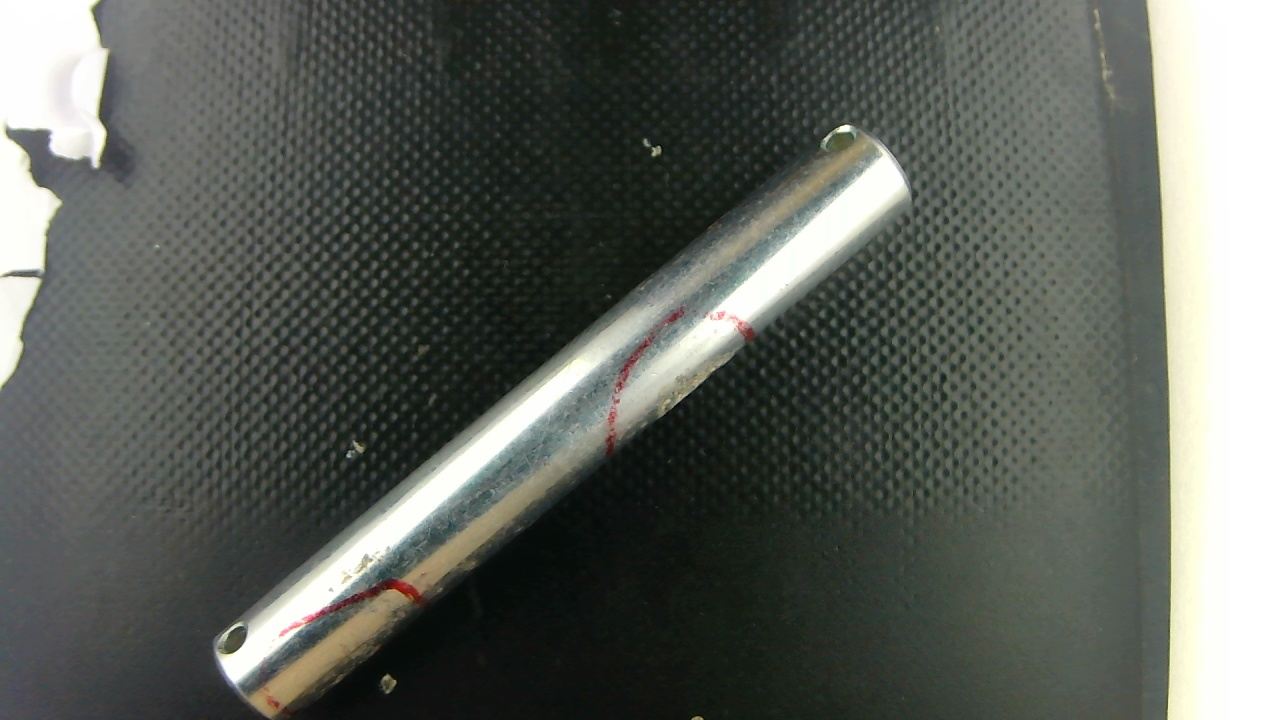whiterust_pin: (241, 583, 410, 718)
